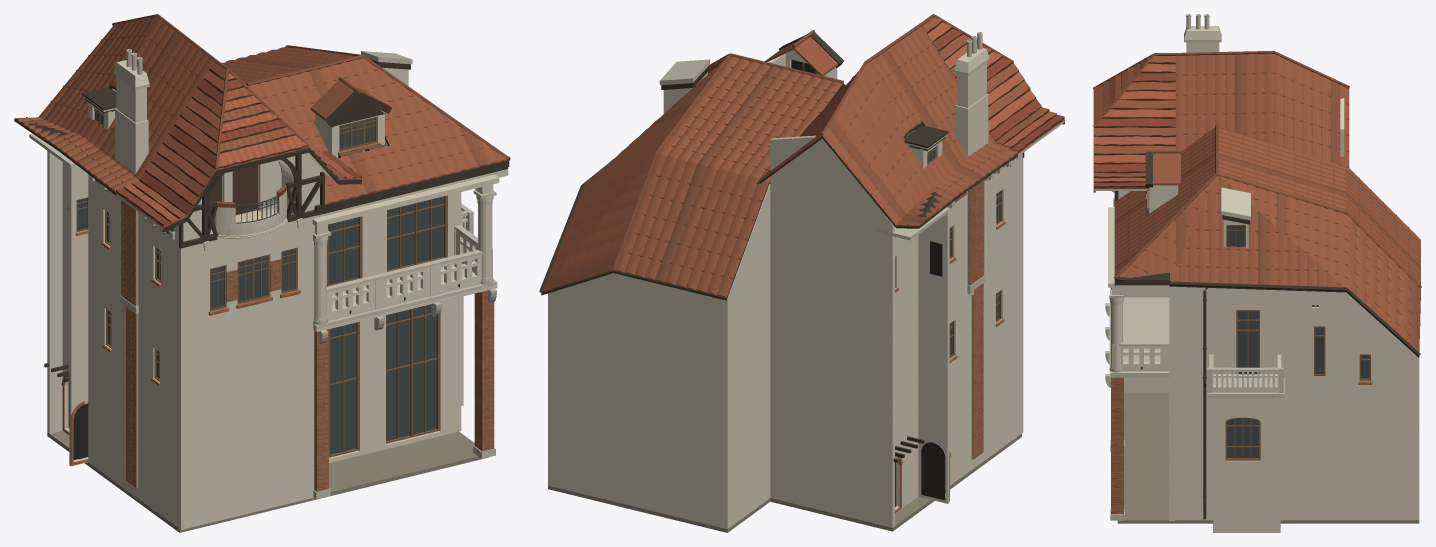
File: xuhui-gaoan-77-curved-veranda-lod.glb
3 views of the same model, side by side, from view 1: azimuth 30°, elevation 25°; view 2: azimuth 150°, elevation 25°; view 3: azimuth 270°, elevation 25° (orthographic). The views are drawn at different scales.
Visible parts, largest first — view 1: 高安路77号花园住宅折檐弧阳台; view 2: 高安路77号花园住宅折檐弧阳台; view 3: 高安路77号花园住宅折檐弧阳台.
Part boxes in pixels (x1,y1,x2,y2): 高安路77号花园住宅折檐弧阳台: [14, 14, 510, 532]; 高安路77号花园住宅折檐弧阳台: [539, 14, 1064, 532]; 高安路77号花园住宅折檐弧阳台: [1093, 14, 1421, 532].
Size of the model in its own units: 12.69 by 14.22 by 11.16.
Materials: 18 (2 with a texture image).
